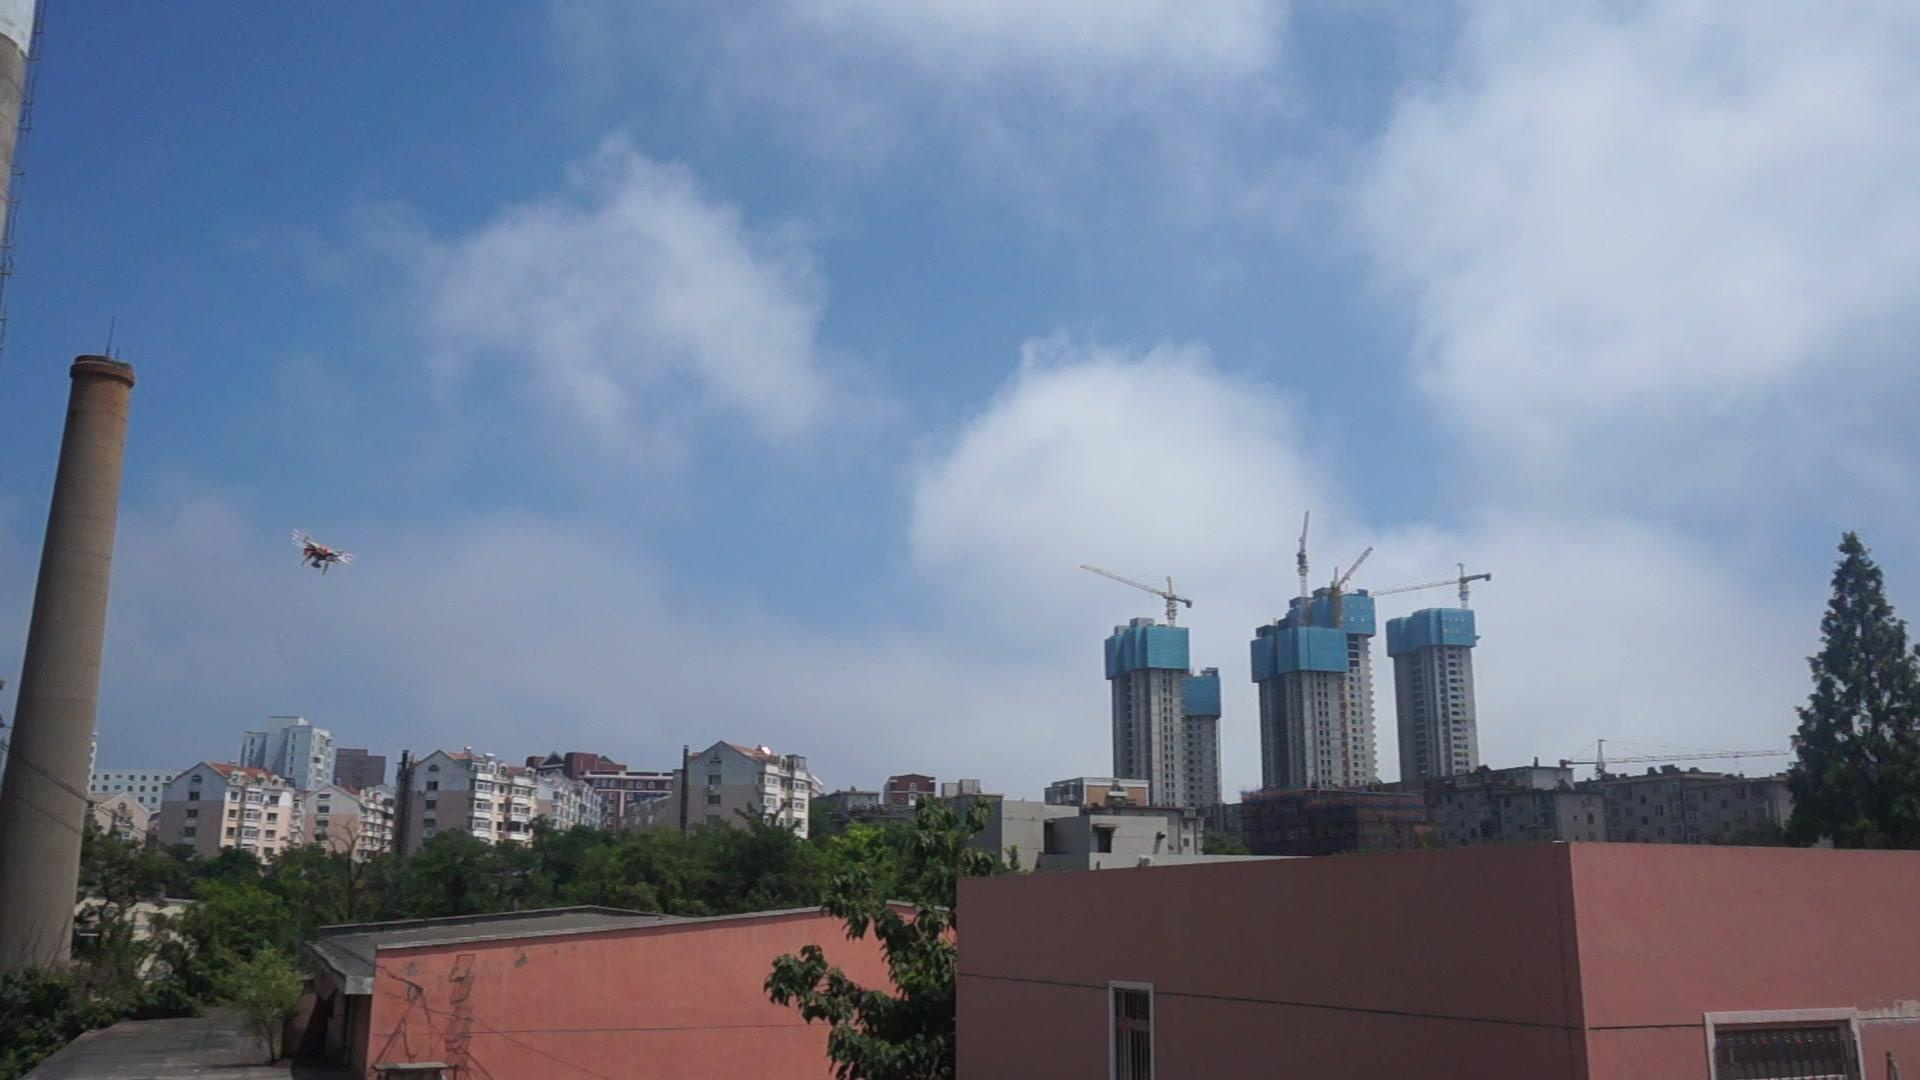UAV: (291, 529, 357, 576)
